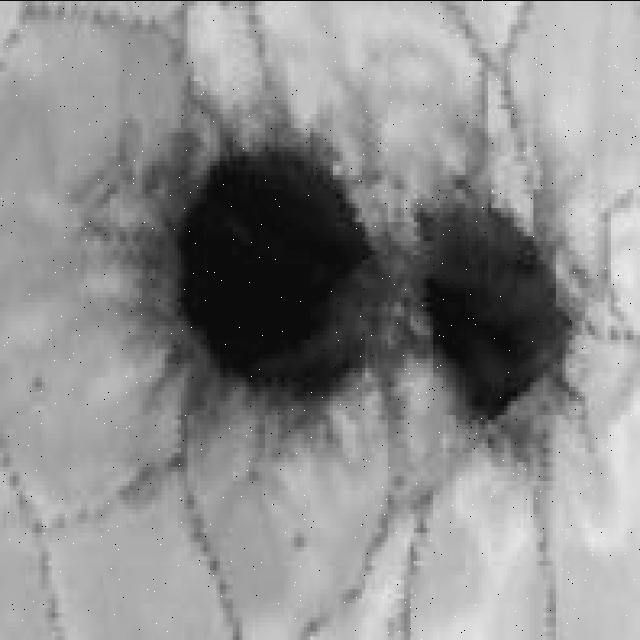good_void: (81, 108, 408, 459), (410, 175, 592, 455), (31, 373, 45, 397), (293, 530, 305, 549)
